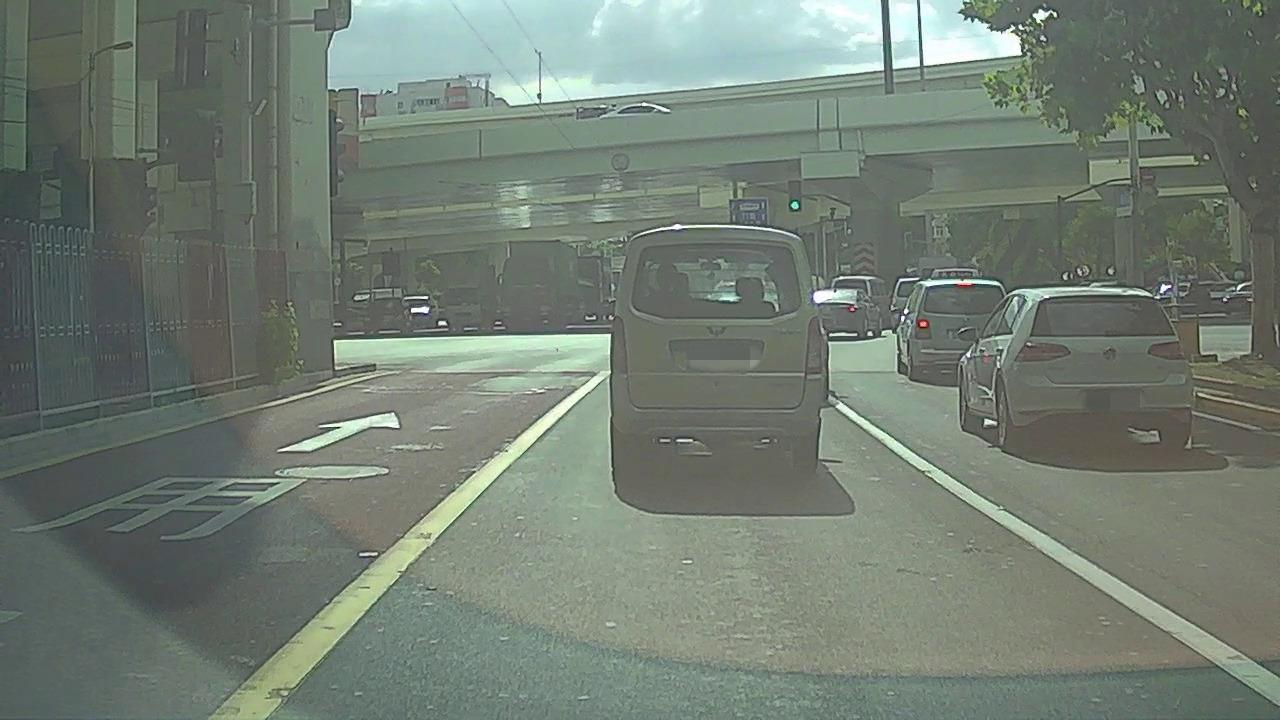traffic_light: (790, 181, 800, 212)
